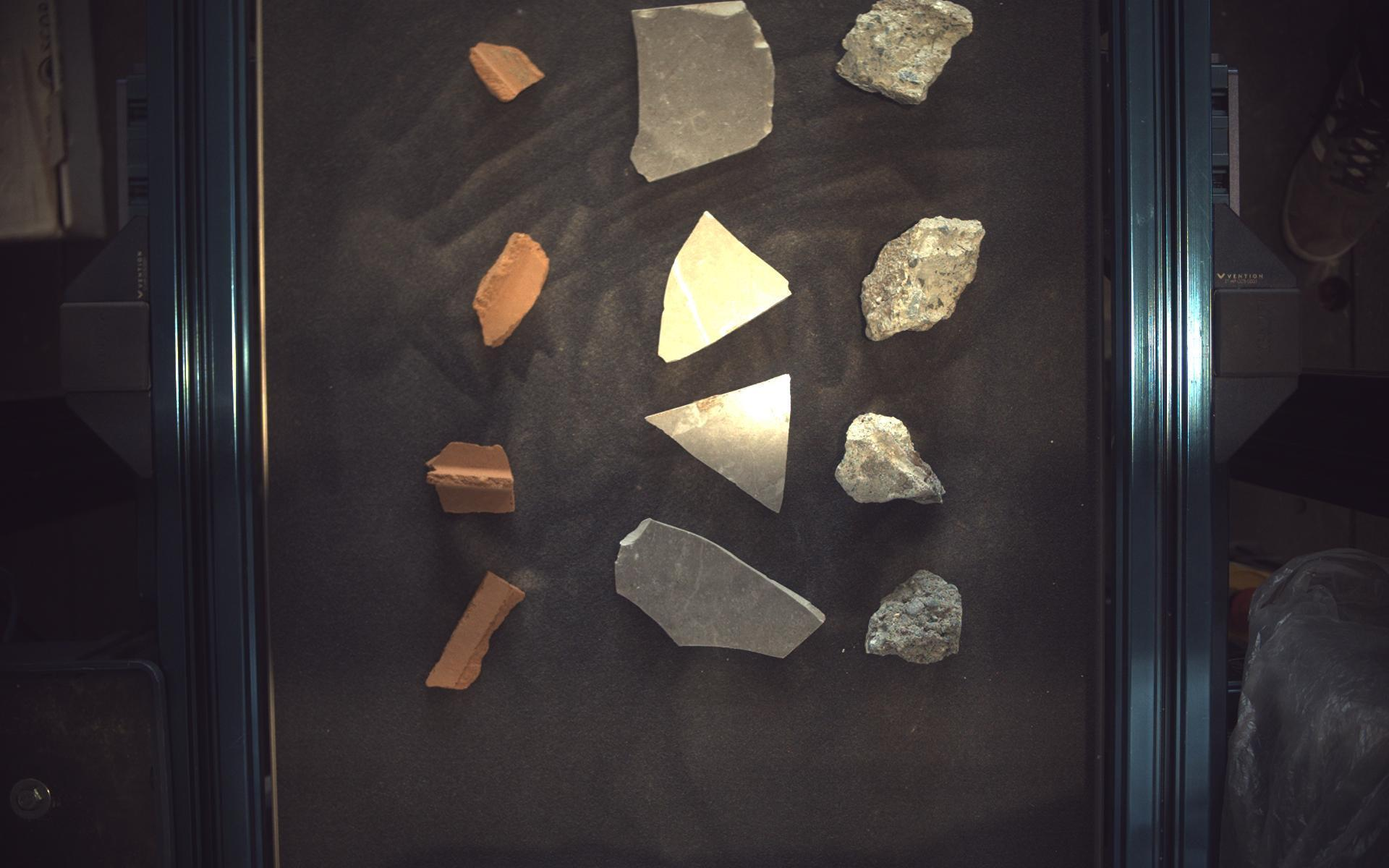brick: (426, 572, 525, 691), (473, 232, 550, 346), (427, 442, 516, 514), (470, 41, 545, 101)
concrete: (862, 215, 987, 341), (838, 1, 974, 103), (836, 413, 947, 504), (867, 571, 964, 665)
tile: (616, 519, 827, 659), (632, 1, 776, 181), (659, 210, 791, 362), (647, 374, 791, 513)
